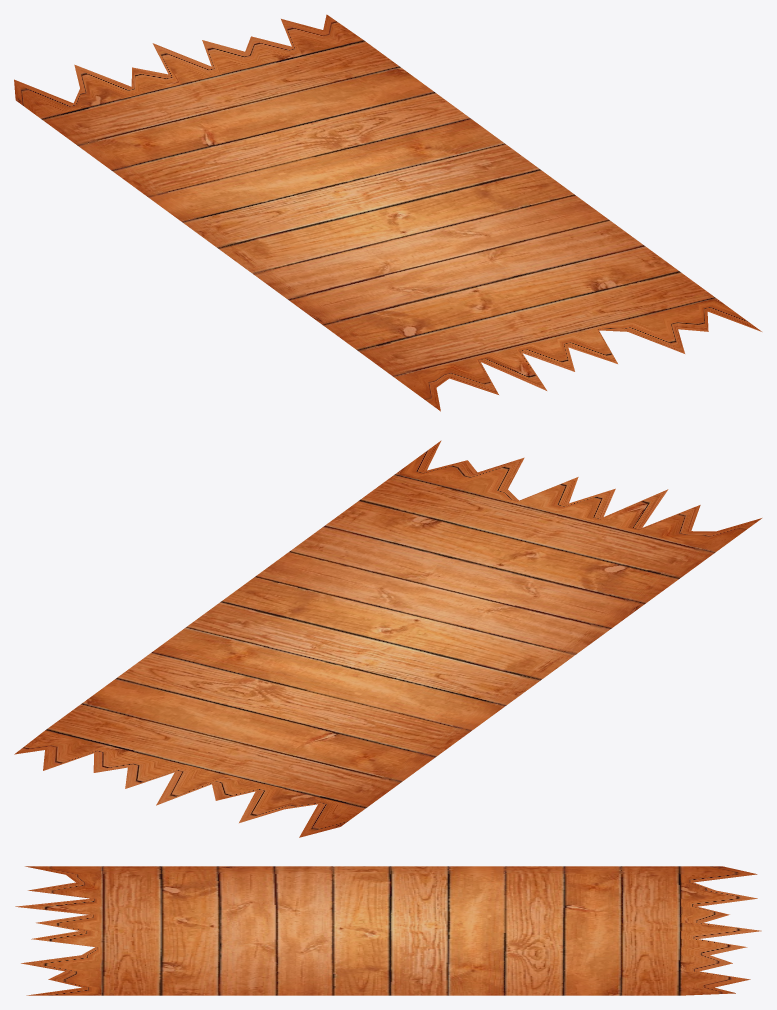
The model's file is last plane.fbx.
The picture shows the model from 3 angles, top to bottom: view 1: azimuth 30°, elevation 25°; view 2: azimuth 150°, elevation 25°; view 3: azimuth 270°, elevation 25°; orthographic projection. The views are drawn at different scales.
Visible parts, largest first — view 1: Plane; view 2: Plane; view 3: Plane.
Part boxes in pixels (x1,y1,x2,y2): Plane: [14, 14, 761, 411]; Plane: [14, 440, 761, 837]; Plane: [15, 866, 761, 995].
Size of the model in its own units: 320 by 1.32 by 784.
